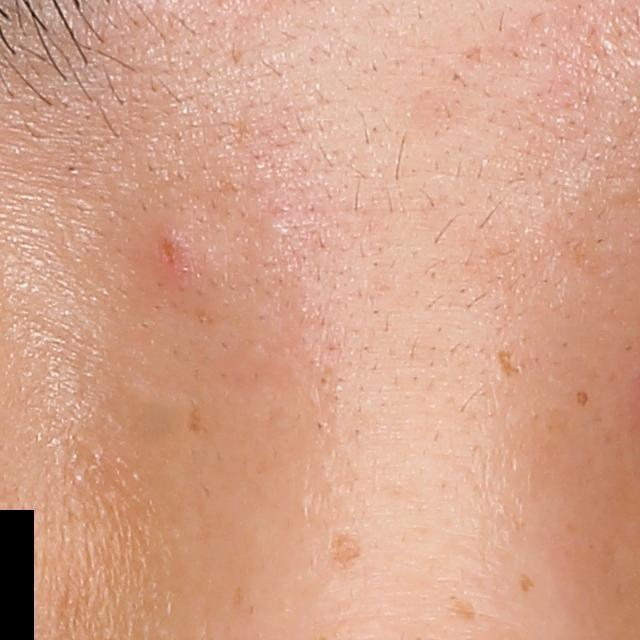atrophic_scar: (497, 350, 522, 377)
melasma: (328, 533, 359, 568), (180, 400, 202, 437), (450, 599, 479, 625), (228, 585, 246, 614)
